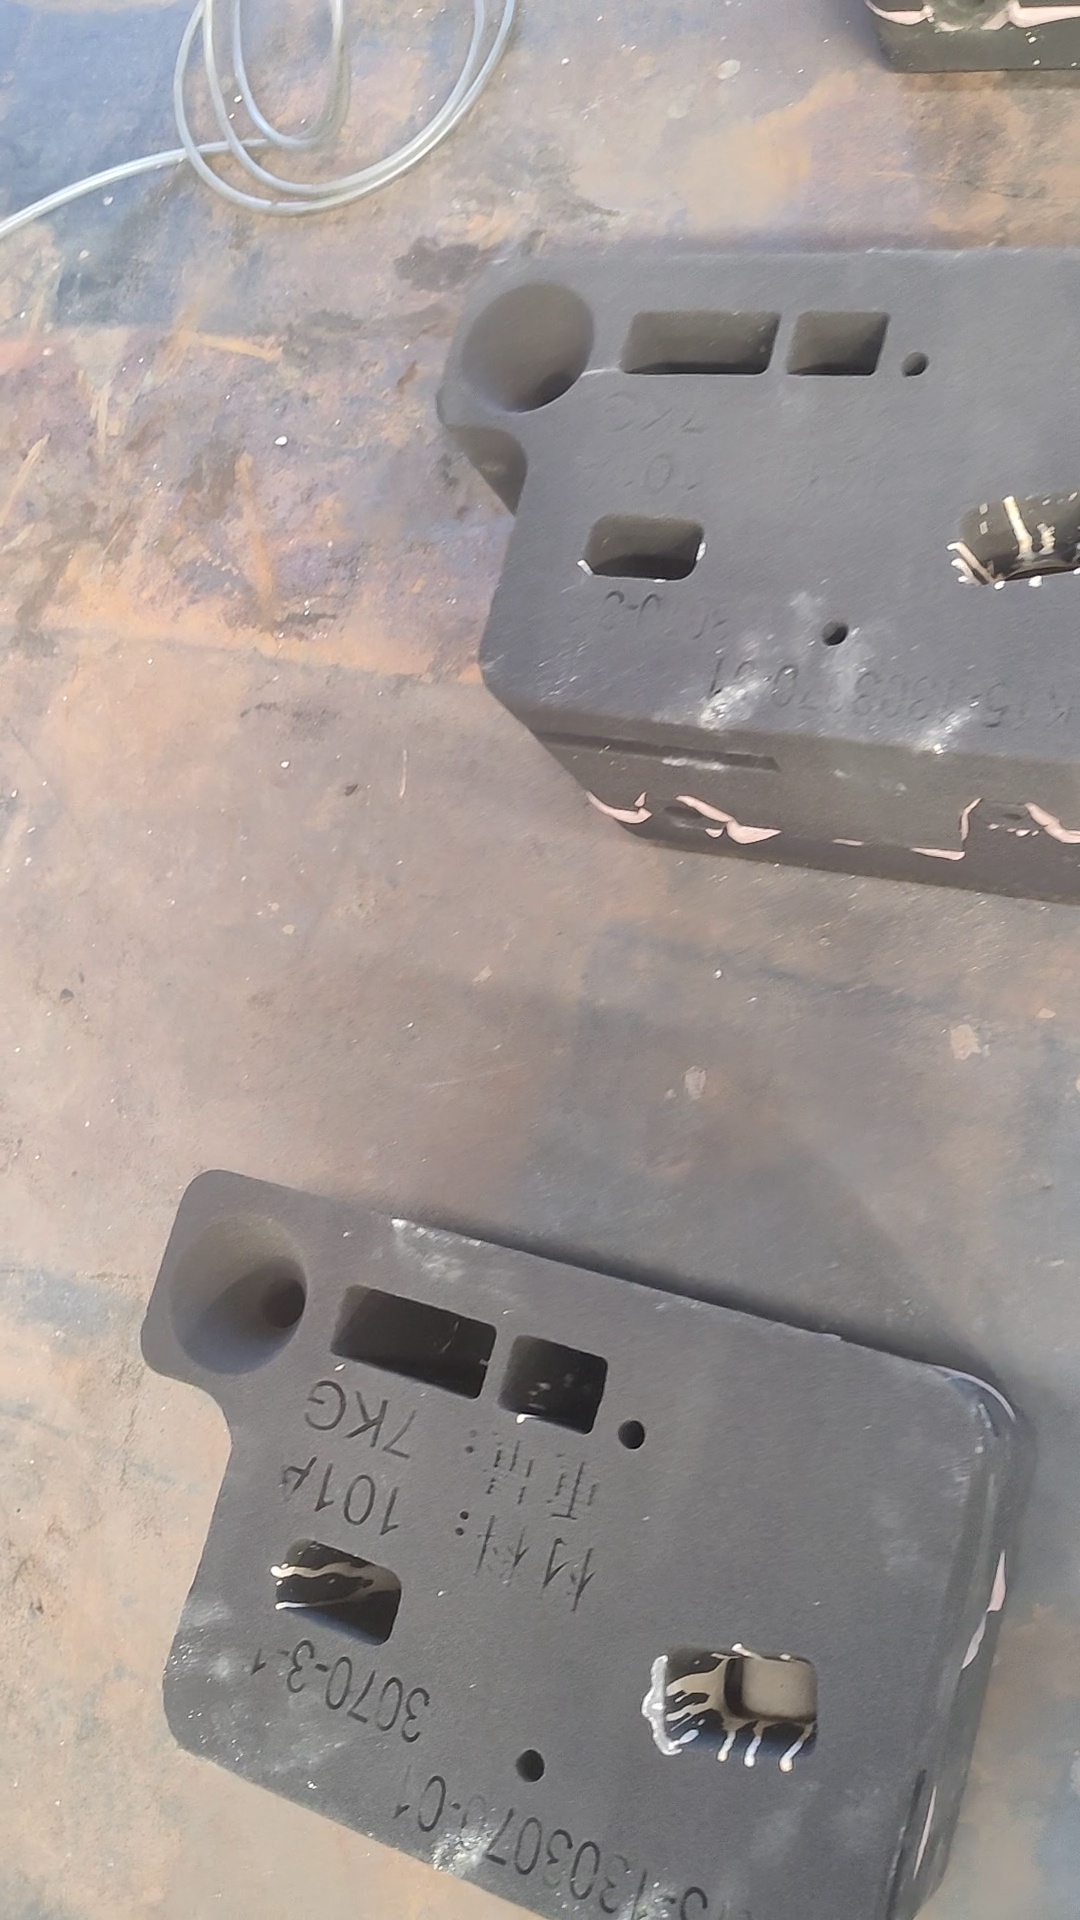pouring hole: (166, 1213, 305, 1378), (462, 281, 596, 411)
